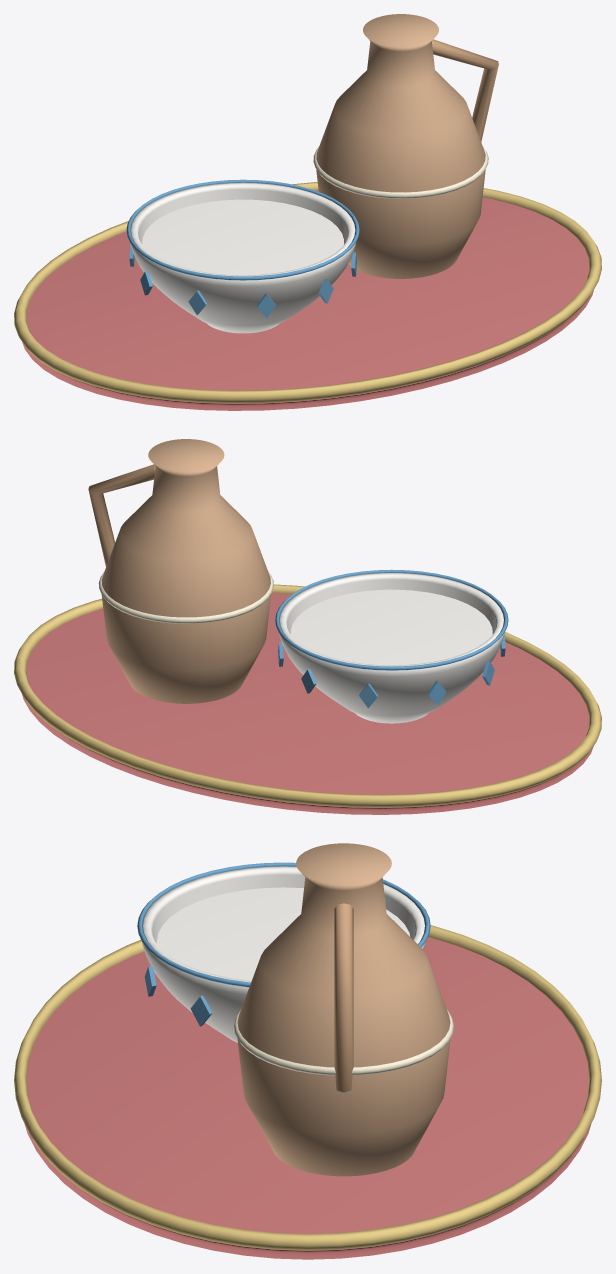
Rendered from airan.glb.
3 views of the same model, one above another, from view 1: azimuth 30°, elevation 25°; view 2: azimuth 150°, elevation 25°; view 3: azimuth 270°, elevation 25° (orthographic). The views are drawn at different scales.
Parts seen in each view (by area): view 1: cloth, jug, kese, cloth-trim, airan, rim, handle, jug-band; view 2: cloth, jug, kese, airan, cloth-trim, rim, handle, jug-band; view 3: cloth, jug, cloth-trim, airan, kese, handle, rim, jug-band.
Part boxes in pixels (<box>): cloth: <box>22,190,593,410</box>; jug: <box>316,14,485,278</box>; kese: <box>130,182,355,333</box>; cloth-trim: <box>14,182,601,403</box>; airan: <box>142,199,343,275</box>; rim: <box>126,179,359,280</box>; handle: <box>432,39,498,141</box>; jug-band: <box>313,146,488,198</box>; cloth: <box>22,593,593,814</box>; jug: <box>101,439,271,703</box>; kese: <box>279,573,504,723</box>; airan: <box>291,589,492,665</box>; cloth-trim: <box>14,584,601,807</box>; rim: <box>275,569,508,670</box>; handle: <box>88,464,155,566</box>; jug-band: <box>98,571,273,623</box>; cloth: <box>24,937,591,1259</box>; jug: <box>237,843,450,1176</box>; cloth-trim: <box>14,925,601,1250</box>; airan: <box>157,887,410,980</box>; kese: <box>142,866,425,1042</box>; handle: <box>334,903,353,1092</box>; rim: <box>137,862,430,987</box>; jug-band: <box>233,1009,454,1075</box>.
Size of the model in its own units: 3.27 by 1.38 by 2.45.
